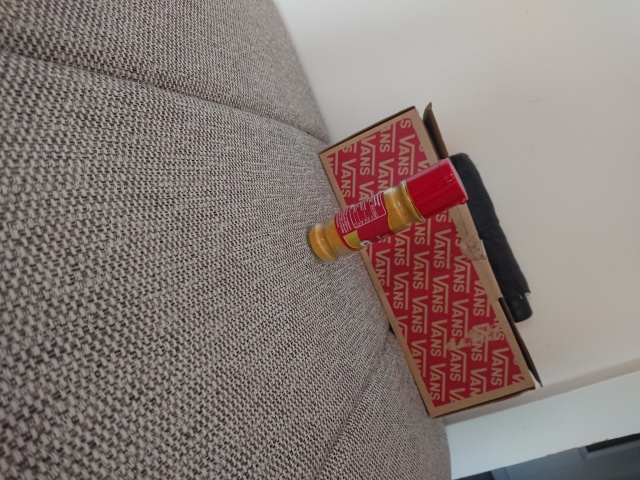Kotanyi Curry Spices Mix 70g: (304, 156, 471, 264)
